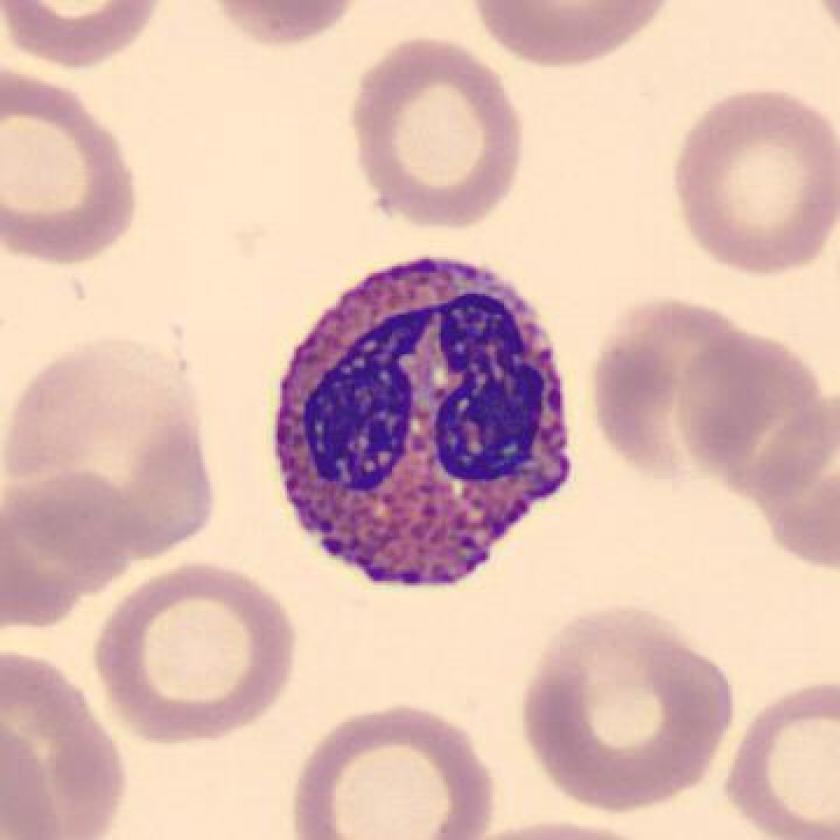eosinophil: (258, 244, 587, 605)
